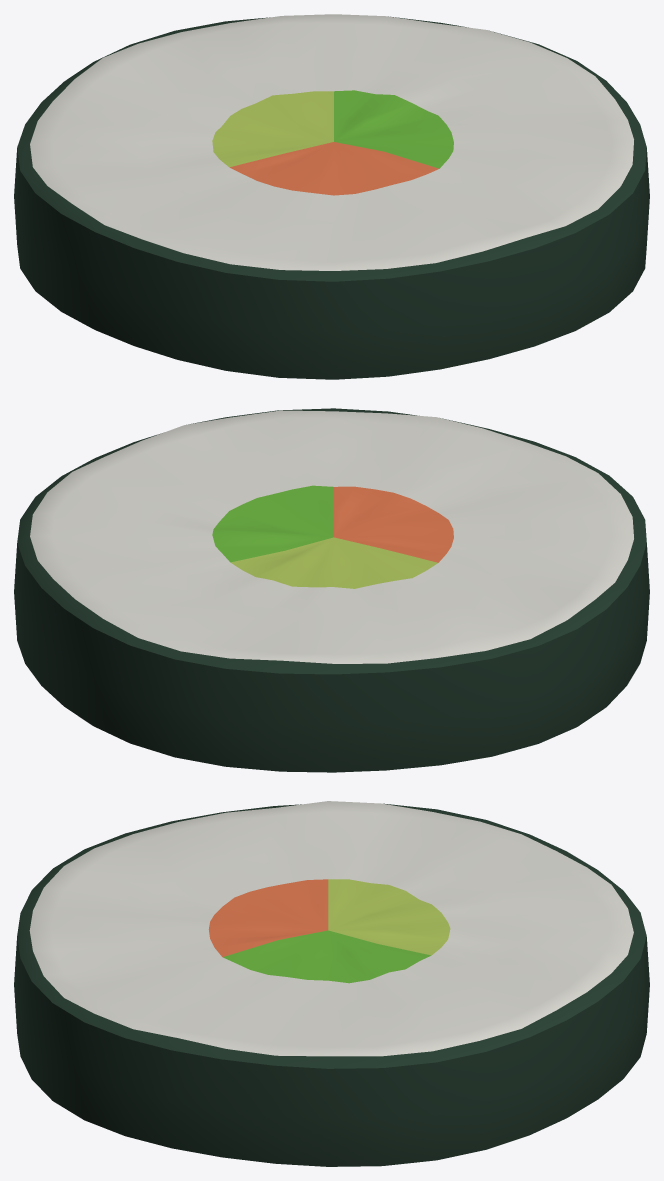
The model's file is roll.glb.
3 views of the same model, one above another, from view 1: azimuth 30°, elevation 25°; view 2: azimuth 150°, elevation 25°; view 3: azimuth 270°, elevation 25° (orthographic).
Visible parts, largest first — view 1: body; view 2: body; view 3: body.
Part boxes in pixels (box(x1,y1,x2,y2)): body: box(14, 14, 649, 379); body: box(14, 408, 649, 772); body: box(14, 801, 649, 1166).
Size of the model in its own units: 0.8 by 0.16 by 0.8.
